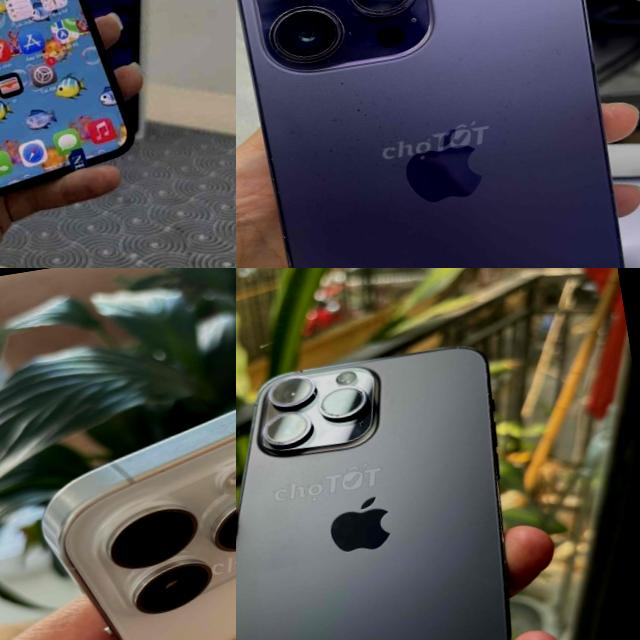scratch: (255, 0, 347, 70), (326, 72, 399, 158), (335, 0, 430, 27), (489, 98, 528, 160), (546, 37, 591, 83), (320, 140, 344, 169), (346, 261, 376, 268)
